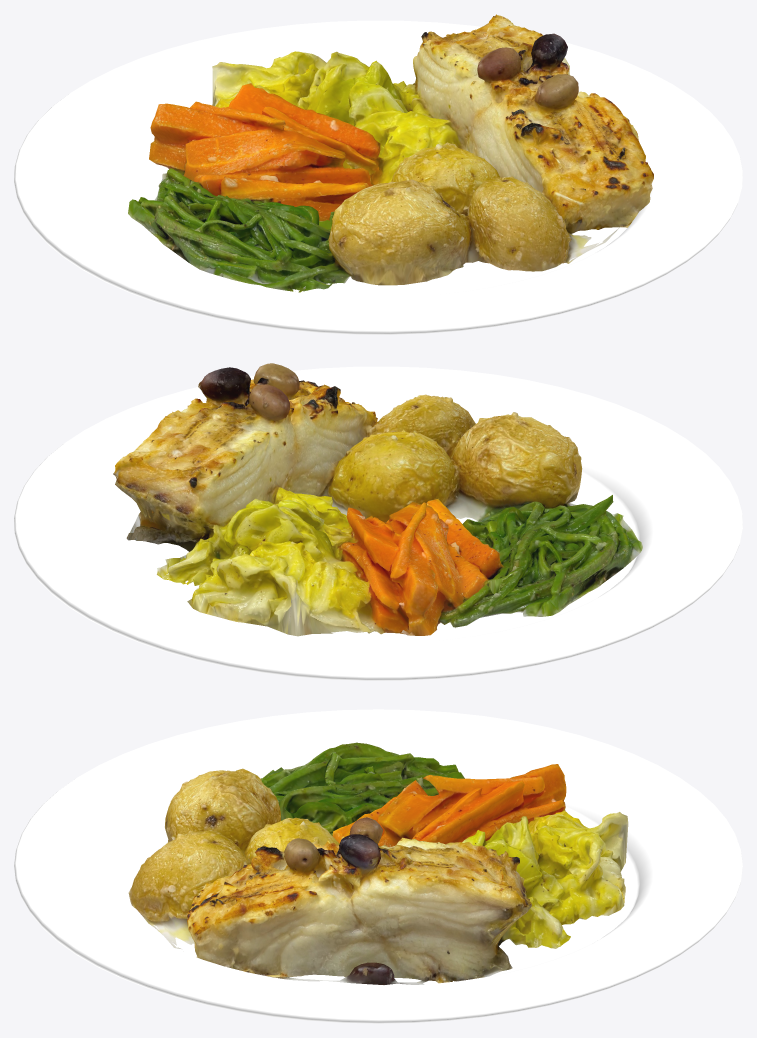
Rendered from Bacalhau.glb.
The picture shows the model from 3 angles, top to bottom: view 1: azimuth 30°, elevation 25°; view 2: azimuth 150°, elevation 25°; view 3: azimuth 270°, elevation 25°; orthographic projection.
Parts seen in each view (by area): view 1: Mesh_0.001, Circle; view 2: Mesh_0.001, Circle; view 3: Circle, Mesh_0.001.
Part boxes in pixels (<box>): Mesh_0.001: <box>128,14,653,292</box>; Circle: <box>14,20,742,334</box>; Mesh_0.001: <box>113,363,642,636</box>; Circle: <box>14,366,742,680</box>; Circle: <box>14,709,742,1023</box>; Mesh_0.001: <box>128,742,628,984</box>.
Bounding box in the file's own units: 0.3085 × 0.0652 × 0.3085.
2 materials, 1 textured.
